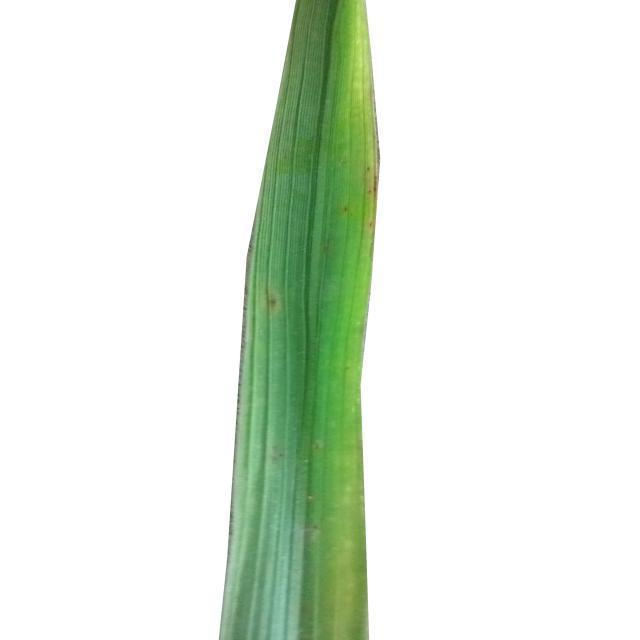Rice Tungro: (347, 0, 385, 198)
